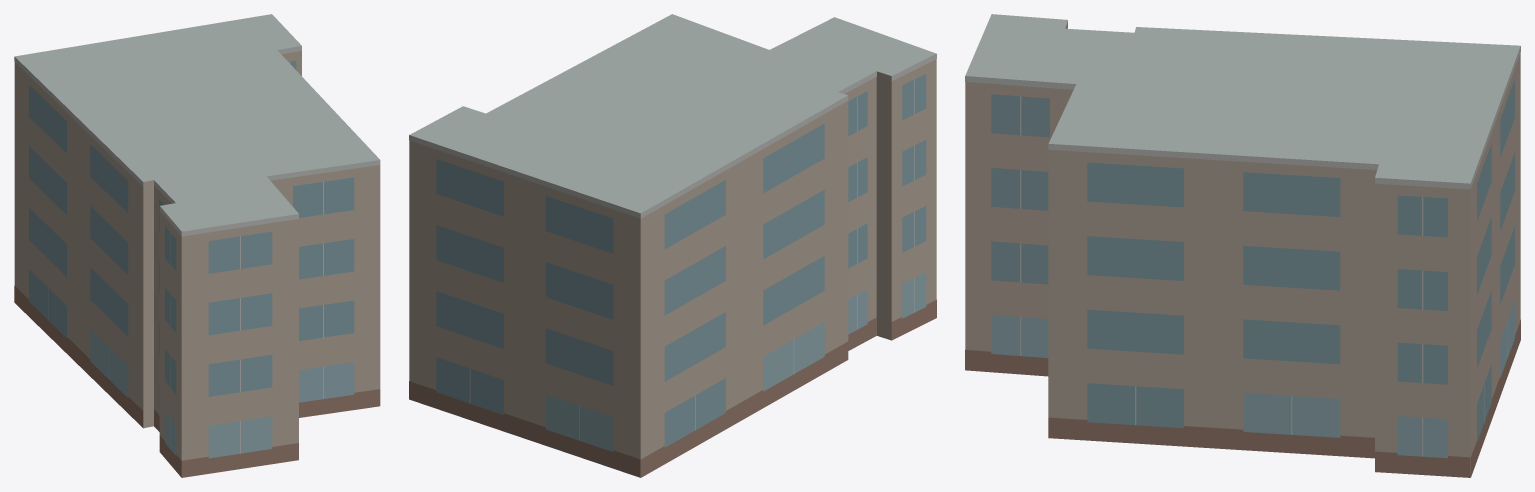
Rendered from survey-upis-32466218.glb.
The picture shows the model from 3 angles, left to right: view 1: azimuth 30°, elevation 25°; view 2: azimuth 150°, elevation 25°; view 3: azimuth 270°, elevation 25°; orthographic projection. The views are drawn at different scales.
Visible parts, largest first — view 1: survey-upis-32466218.tmp; view 2: survey-upis-32466218.tmp; view 3: survey-upis-32466218.tmp.
Part boxes in pixels (left/top/right/bottom): survey-upis-32466218.tmp: left=14, top=14, right=380, bottom=477; survey-upis-32466218.tmp: left=409, top=14, right=936, bottom=477; survey-upis-32466218.tmp: left=965, top=14, right=1520, bottom=477.
Size of the model in its own units: 15.09 by 12.2 by 20.89.
